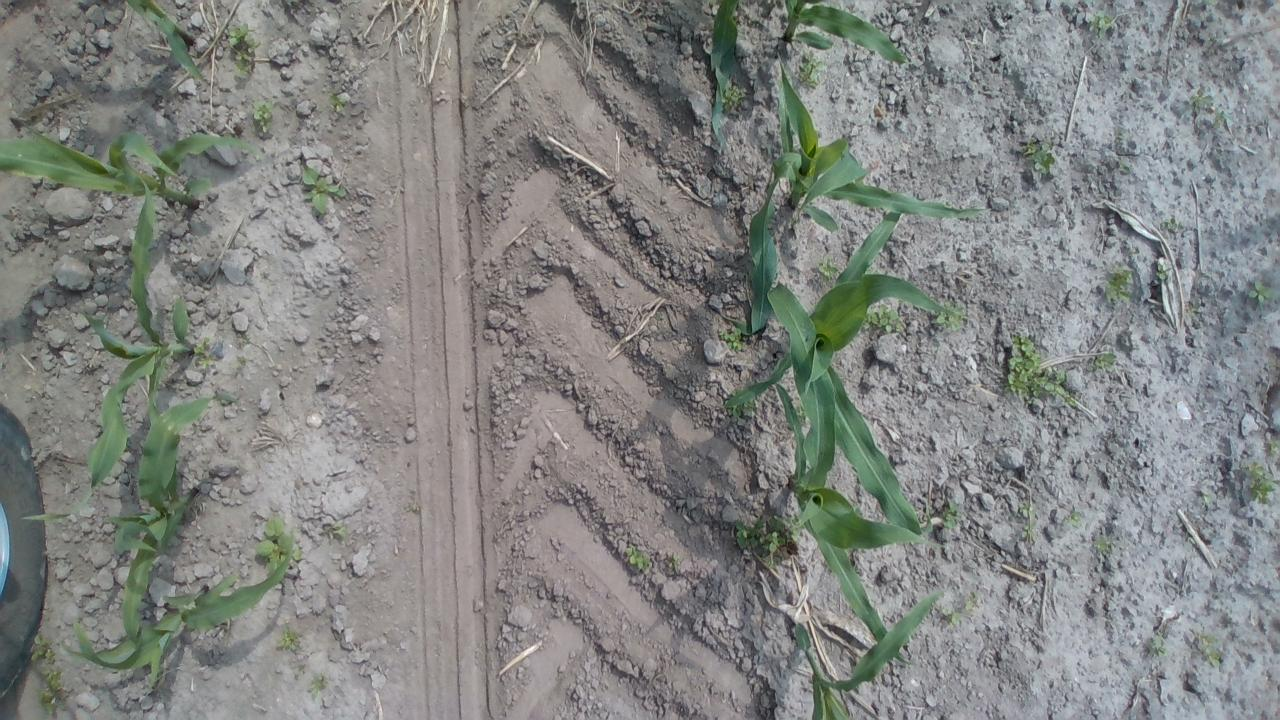Maize: (723, 61, 994, 336), (768, 276, 944, 672), (731, 202, 932, 543), (76, 172, 202, 502), (60, 562, 292, 688), (22, 488, 199, 638), (0, 120, 258, 207), (792, 589, 942, 720), (778, 0, 908, 65), (118, 0, 207, 84), (707, 0, 740, 145)
Weeds: (1002, 332, 1076, 406), (734, 510, 804, 568), (252, 516, 304, 574), (302, 166, 346, 219), (224, 22, 262, 78), (31, 668, 70, 714), (1243, 461, 1280, 503), (861, 302, 908, 332), (725, 386, 760, 424), (1023, 134, 1057, 173), (1104, 262, 1134, 304), (797, 48, 825, 90), (931, 298, 964, 332), (1020, 496, 1042, 544), (250, 97, 276, 134), (30, 634, 57, 665), (1198, 633, 1222, 667), (624, 544, 653, 572), (720, 80, 746, 111), (1248, 279, 1280, 304), (192, 337, 216, 369), (275, 622, 302, 650), (1090, 535, 1118, 562), (816, 255, 840, 286), (718, 328, 746, 353), (1086, 351, 1117, 373), (1094, 8, 1114, 40), (940, 498, 959, 528), (939, 607, 960, 630), (308, 671, 328, 694), (328, 92, 348, 112), (1192, 88, 1214, 106), (1152, 632, 1167, 657), (962, 591, 978, 610), (1160, 218, 1182, 231), (231, 354, 249, 369), (331, 520, 346, 538), (1266, 439, 1280, 458), (1154, 262, 1168, 280), (1064, 512, 1082, 526), (1199, 488, 1211, 504), (1115, 127, 1129, 140), (1118, 159, 1130, 174), (236, 334, 254, 344), (1212, 112, 1224, 127), (1185, 303, 1198, 316), (671, 554, 682, 568), (1268, 359, 1280, 370), (167, 320, 175, 336), (711, 4, 720, 15), (1185, 536, 1196, 545), (1202, 0, 1219, 5), (99, 314, 109, 320), (0, 360, 7, 368)
